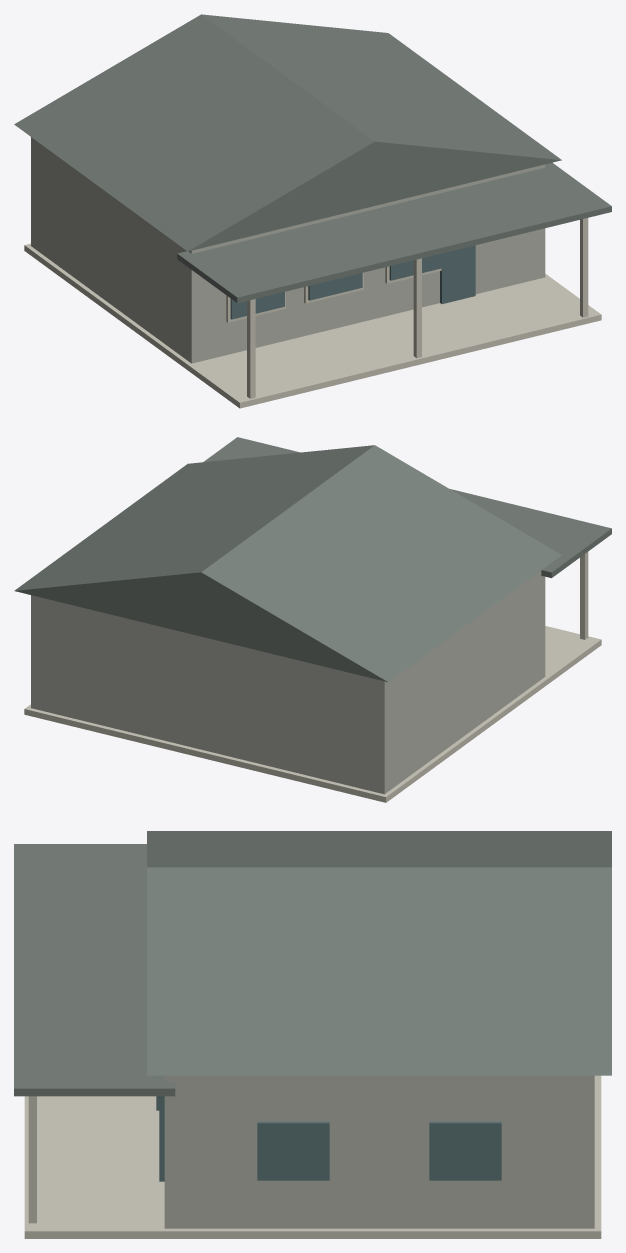
Rendered from clubhouse_02.glb.
The picture shows the model from 3 angles, top to bottom: view 1: azimuth 30°, elevation 25°; view 2: azimuth 150°, elevation 25°; view 3: azimuth 270°, elevation 25°; orthographic projection. The views are drawn at different scales.
Visible parts, largest first — view 1: Clubhouse_02; view 2: Clubhouse_02; view 3: Clubhouse_02.
Boxes of the visible parts, x1=… form: Clubhouse_02: x1=14, y1=14, x2=611, y2=408; Clubhouse_02: x1=14, y1=437, x2=611, y2=802; Clubhouse_02: x1=14, y1=831, x2=611, y2=1238.
Size of the model in its own units: 11.14 by 5.38 by 11.51.
